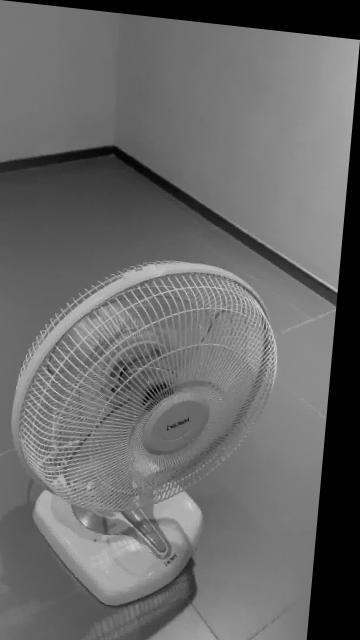Fan: (19, 258, 284, 604)
